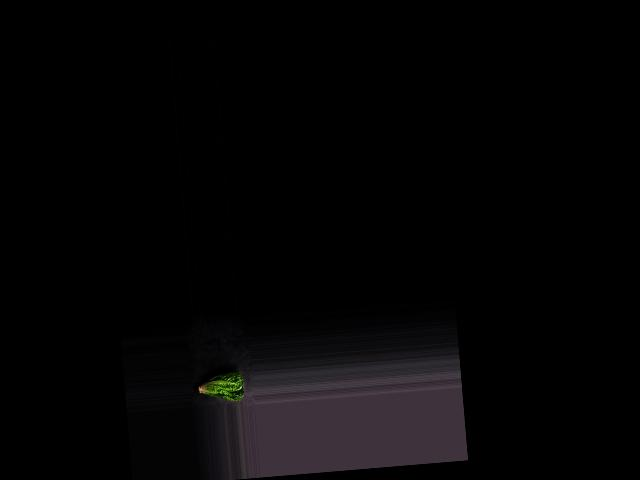lettuce: (193, 368, 245, 405)
